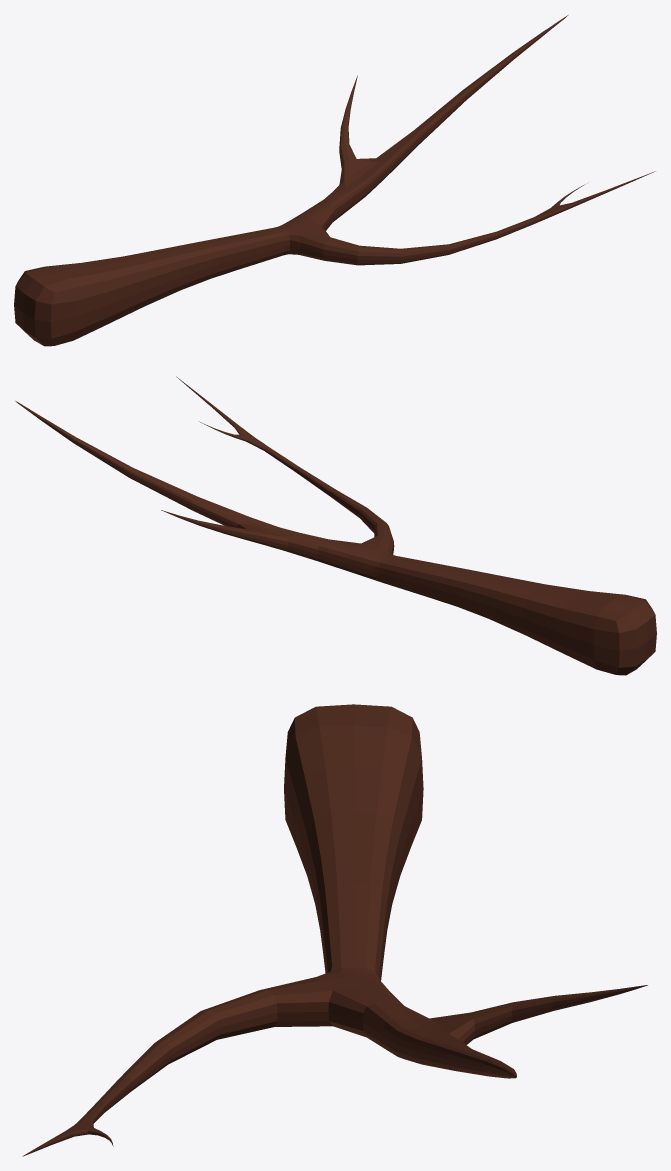
Rendered from Stick.fbx.
3 renders of one model, top to bottom at view 1: azimuth 30°, elevation 25°; view 2: azimuth 150°, elevation 25°; view 3: azimuth 270°, elevation 25°, orthographic. The views are drawn at different scales.
Parts seen in each view (by area): view 1: Ветка; view 2: Ветка; view 3: Ветка.
Boxes of the visible parts, <box> form: Ветка: <box>14,15,655,346</box>; Ветка: <box>15,376,656,675</box>; Ветка: <box>22,704,647,1156</box>.
Size of the model in its own units: 870 by 222 by 402.
